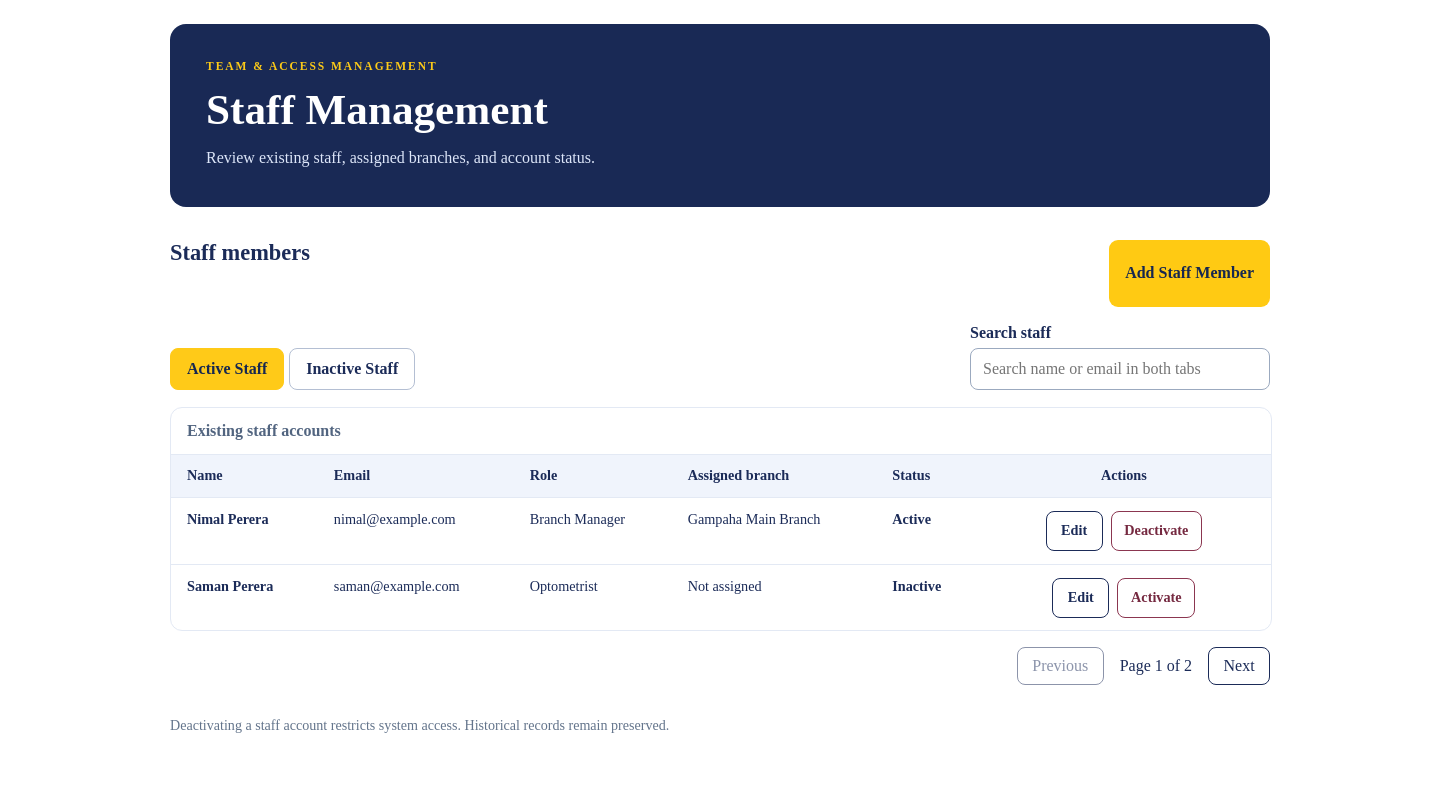
Test case: DDP-094 Staff Management List › opens the staff editor from a directory row
expect the column heading "Nimal Perera" is shown: met, box x1=171 y1=498 x2=318 y2=564
Click the button named "Edit Nimal Perera" at (1074, 531), box x1=1046 y1=511 x2=1102 y2=551
(page scrolled)
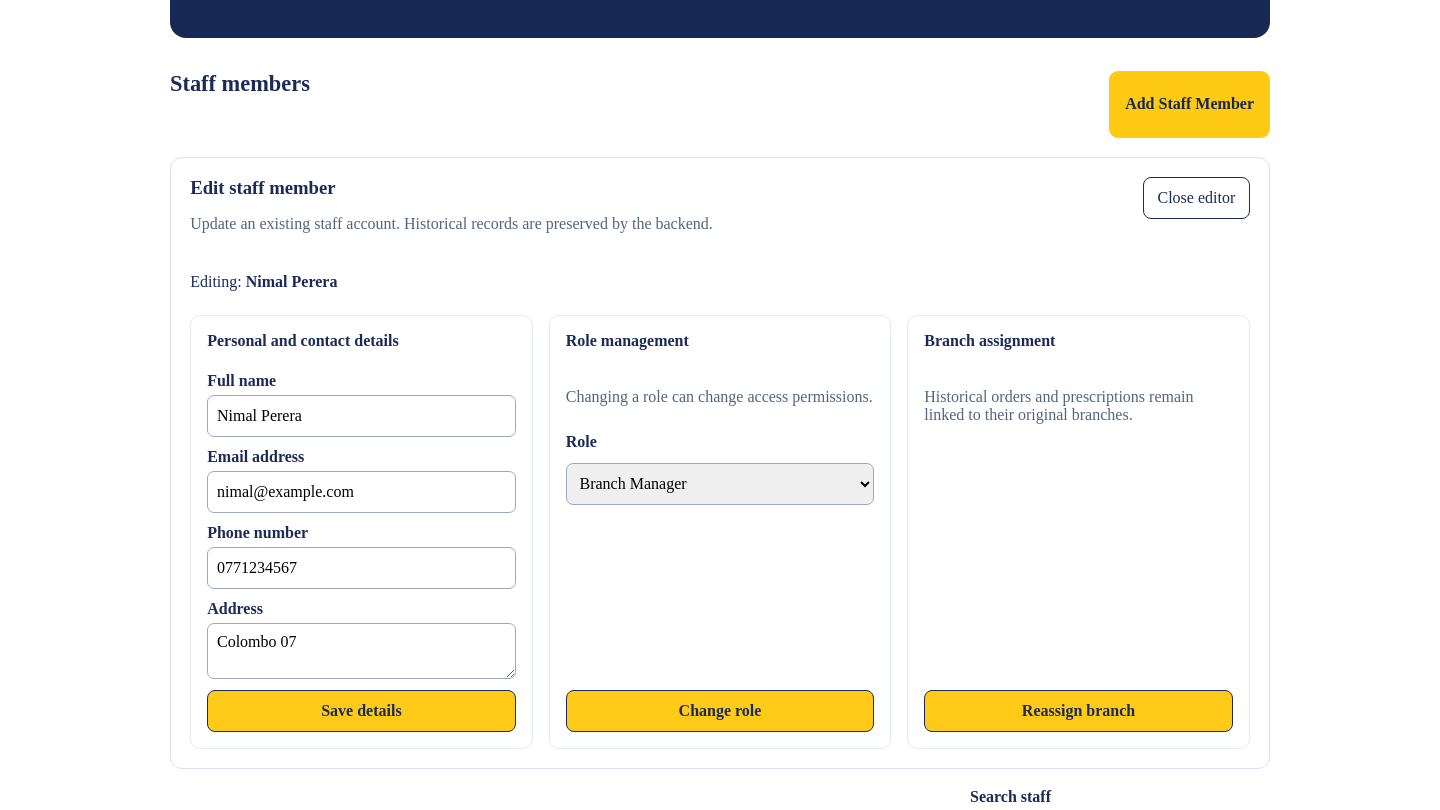
expect the element "Edit staff member" is shown: met, box x1=170 y1=157 x2=1270 y2=769
